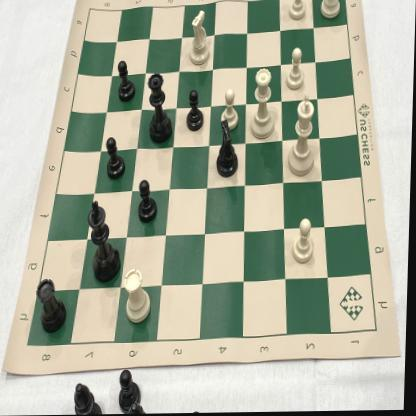black-king: (85, 200, 124, 286)
black-knight: (214, 121, 243, 180)
black-pawn: (137, 178, 161, 225), (104, 136, 129, 181), (184, 88, 206, 135), (117, 59, 137, 103)
black-queen: (145, 70, 177, 147)
black-rook: (37, 274, 69, 335)
white-king: (288, 93, 321, 178)
white-knight: (189, 8, 212, 68)
white-pawn: (293, 218, 320, 267), (285, 47, 308, 92), (220, 88, 242, 132), (286, 0, 308, 23)
white-queen: (247, 67, 280, 142)
white-rook: (125, 265, 155, 326), (317, 0, 344, 24)
